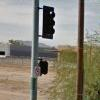traffic lights: (41, 4, 56, 43)
